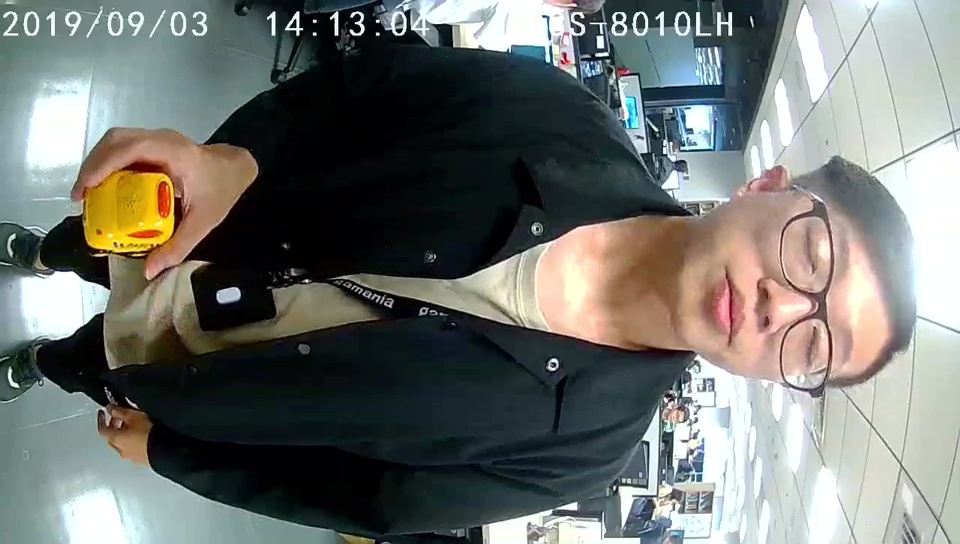car: (82, 169, 176, 252)
